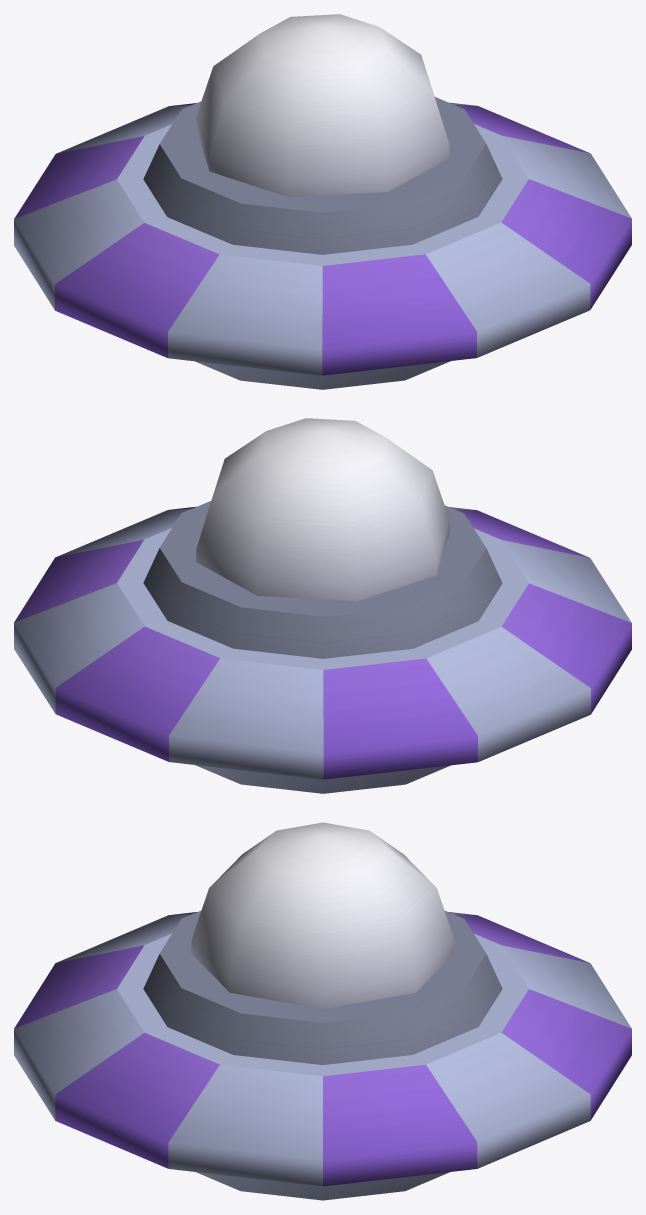
The model's file is enemy-ufo-c.fbx.
3 renders of one model, top to bottom at view 1: azimuth 30°, elevation 25°; view 2: azimuth 150°, elevation 25°; view 3: azimuth 270°, elevation 25°, orthographic.
Parts seen in each view (by area): view 1: enemy-ufo-c; view 2: enemy-ufo-c; view 3: enemy-ufo-c.
Boxes of the visible parts, box(x1,y1,x2,y2) form: enemy-ufo-c: box(14, 14, 631, 389); enemy-ufo-c: box(14, 418, 631, 793); enemy-ufo-c: box(14, 822, 631, 1200).
Bounding box in the file's own units: 100 × 52.54 × 100.
